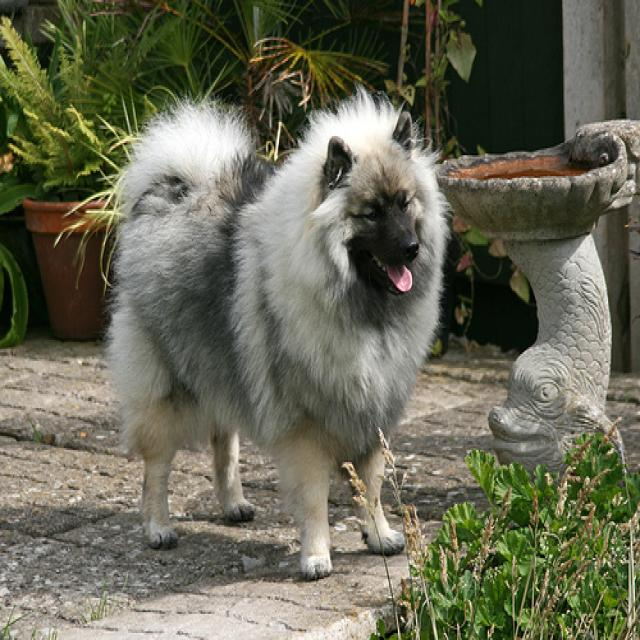dog-keeshond: (101, 84, 457, 589)
